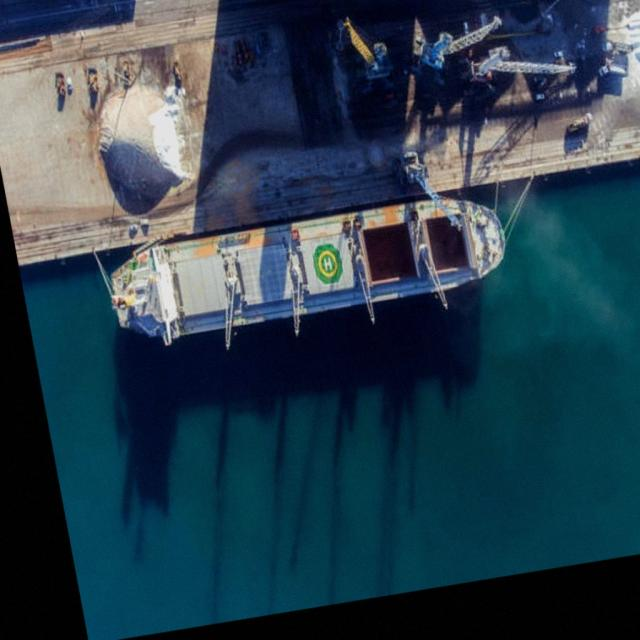helipad: (317, 249, 336, 277)
